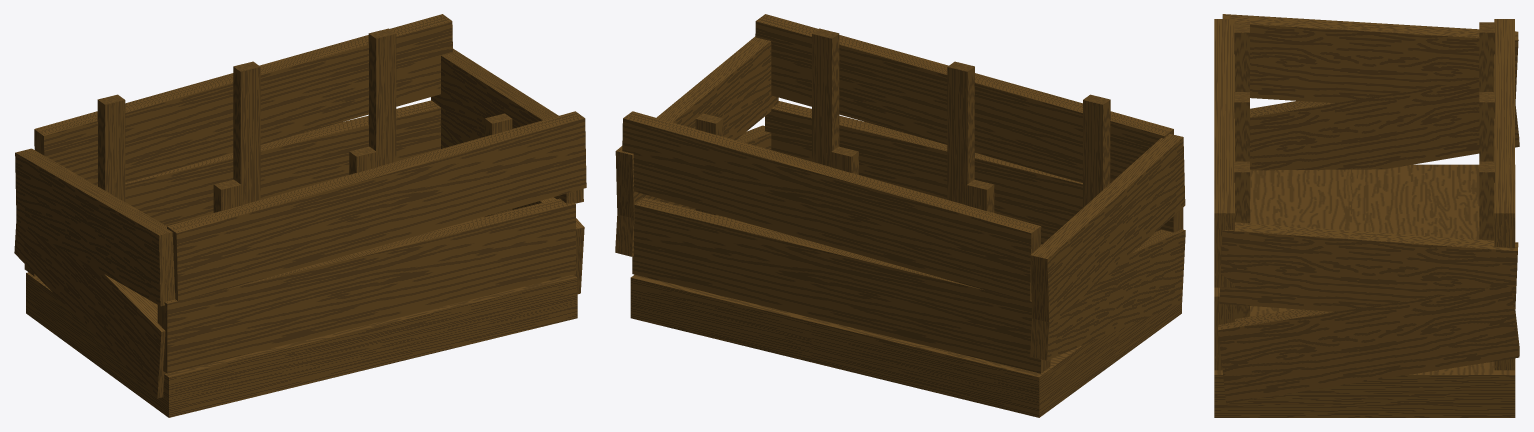
Rendered from tumbril_001.fbx.
3 views of the same model, side by side, from view 1: azimuth 30°, elevation 25°; view 2: azimuth 150°, elevation 25°; view 3: azimuth 270°, elevation 25° (orthographic). The views are drawn at different scales.
Parts seen in each view (by area): view 1: tumbril.001; view 2: tumbril.001; view 3: tumbril.001.
Part boxes in pixels (x1,y1,x2,y2): tumbril.001: (14, 14, 586, 417); tumbril.001: (615, 14, 1185, 417); tumbril.001: (1214, 14, 1519, 417).
Bounding box in the file's own units: 135 × 61.59 × 78.56.
